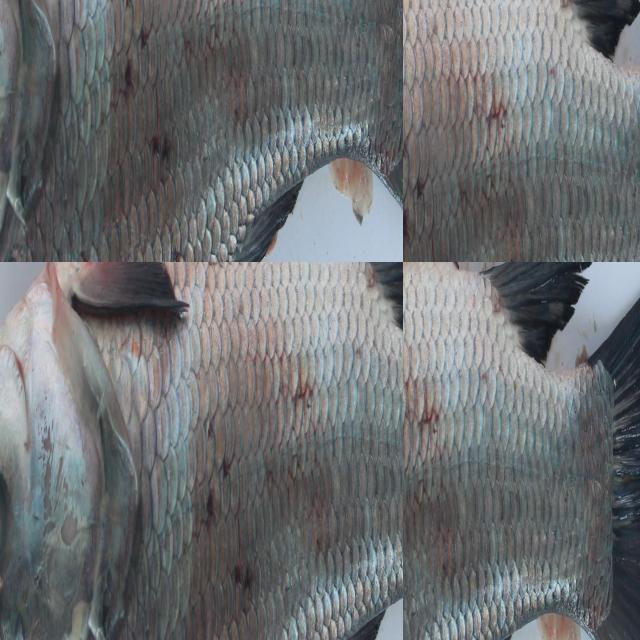fish: (0, 0, 403, 262), (403, 262, 640, 640)
